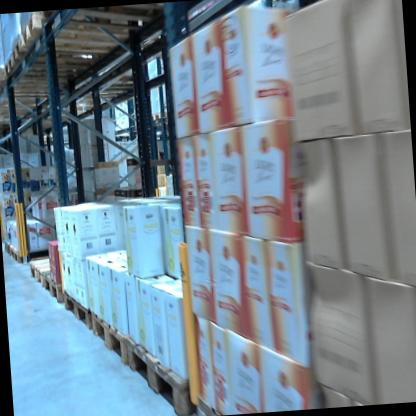pallet: (18, 6, 161, 71), (126, 331, 199, 416), (10, 25, 121, 79), (0, 67, 146, 106), (36, 2, 181, 40), (0, 60, 86, 107), (1, 48, 110, 84), (89, 308, 135, 381), (28, 251, 89, 306), (43, 268, 78, 315), (63, 290, 94, 338), (11, 241, 61, 266), (143, 107, 173, 124), (2, 237, 13, 260)
